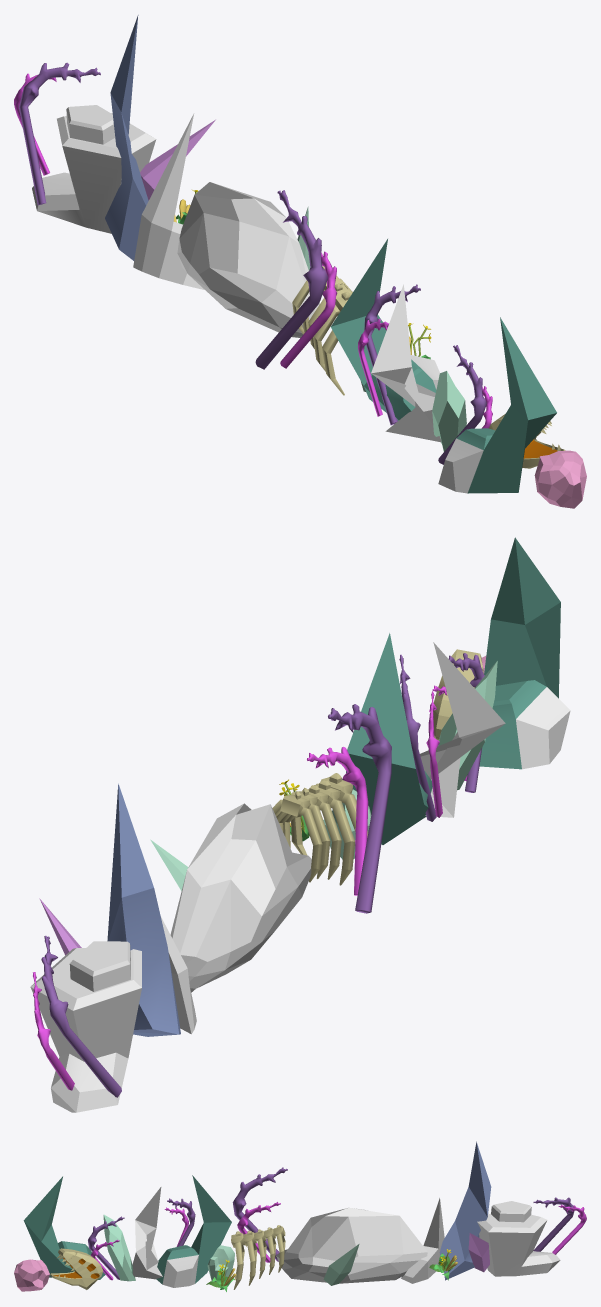
File: wall.fbx
3 views of the same model, one above another, from view 1: azimuth 30°, elevation 25°; view 2: azimuth 150°, elevation 25°; view 3: azimuth 270°, elevation 25° (orthographic). The views are drawn at different scales.
Parts seen in each view (by area): view 1: stone_15, pCylinder8, pCone9, pCone6, pCone3, pCone4, polySurface209, pCone2, pCone8, stone_14, polySurface214, polySurface3 (+5 smaller); view 2: stone_15, pCone9, pCylinder8, pCone3, polySurface209, polySurface3, pCone4, pCone2, pCone8, polySurface214, polySurface211, pCone6 (+3 smaller); view 3: stone_15, pCylinder8, pCone3, pCone9, pCone8, polySurface3, pCone4, pCone2, pCone6, pasted__scull, polySurface209, stone12 (+9 smaller).
Part boxes in pixels (<box>): stone_15: <box>177,182,319,337</box>; pCylinder8: <box>32,105,156,233</box>; pCone9: <box>438,317,556,493</box>; pCone6: <box>133,113,204,289</box>; pCone3: <box>105,15,148,260</box>; pCone4: <box>371,284,441,442</box>; polySurface209: <box>255,190,337,369</box>; pCone2: <box>332,239,439,420</box>; pCone8: <box>331,248,438,419</box>; stone_14: <box>534,450,586,508</box>; polySurface214: <box>14,62,100,205</box>; polySurface3: <box>292,266,383,395</box>; stone_15: <box>170,803,311,992</box>; pCone9: <box>479,537,570,769</box>; pCylinder8: <box>30,941,141,1112</box>; pCone3: <box>107,783,180,1036</box>; polySurface209: <box>307,704,391,913</box>; polySurface3: <box>272,773,368,885</box>; pCone4: <box>420,642,505,817</box>; pCone2: <box>342,633,432,844</box>; pCone8: <box>347,634,431,791</box>; polySurface214: <box>33,935,121,1097</box>; polySurface211: <box>399,654,442,821</box>; pCone6: <box>160,916,196,1034</box>; stone_15: <box>276,1207,433,1283</box>; pCylinder8: <box>477,1201,560,1276</box>; pCone3: <box>439,1141,491,1280</box>; pCone9: <box>23,1176,105,1279</box>; pCone8: <box>157,1217,231,1286</box>; polySurface3: <box>231,1225,285,1289</box>; pCone4: <box>132,1187,162,1279</box>; pCone2: <box>156,1175,231,1287</box>; pCone6: <box>401,1198,444,1283</box>; pasted__scull: <box>50,1248,103,1289</box>; polySurface209: <box>232,1167,287,1262</box>; stone12: <box>103,1214,135,1281</box>.
Size of the model in its own units: 90.62 by 153 by 574.
